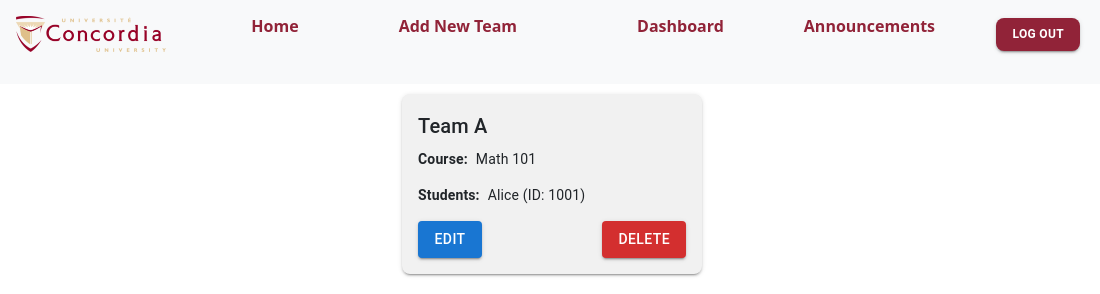
it: Teams Page › allows a teacher to delete a team
Expected: the heading "Team A" is shown, [418,114,488,138]
Click the button "Delete": x=644, y=239 [602,221,686,258]
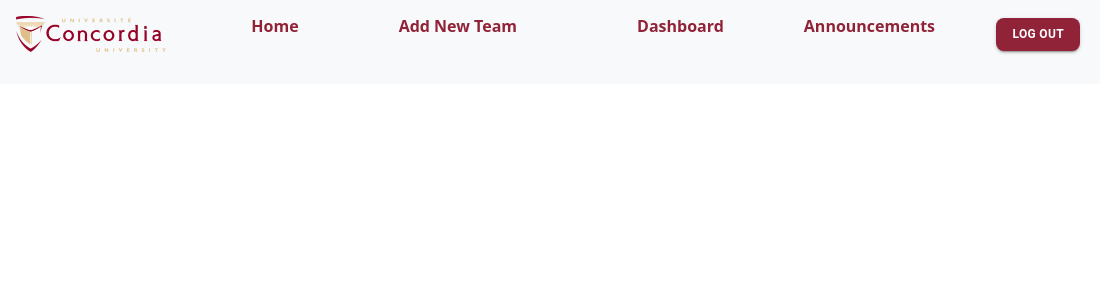
Now the heading "Team A" is gone
